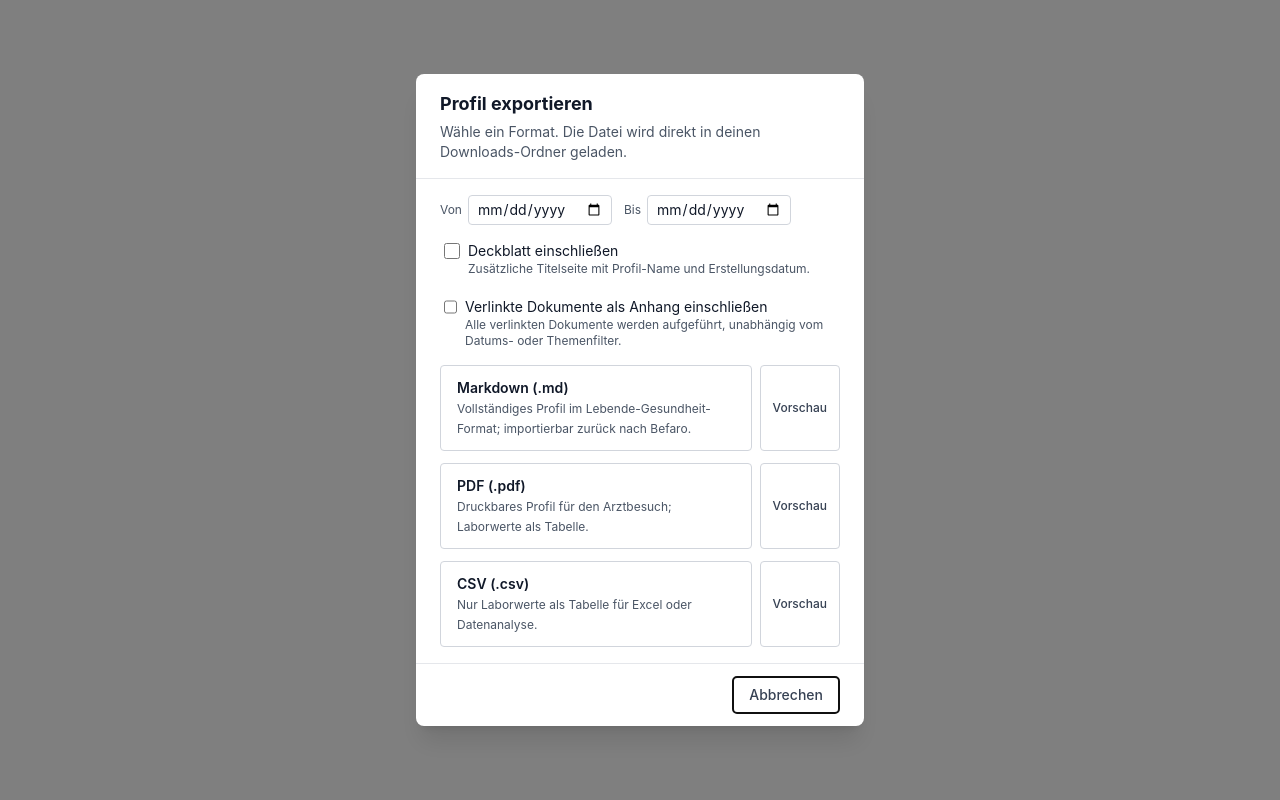
Scenario: ExportDialog › preview workflow (X-07) › clicking Markdown Preview opens the preview modal with rendered content
Click the button with test id "export-markdown-preview" at [800, 408], box [760, 365, 840, 451]
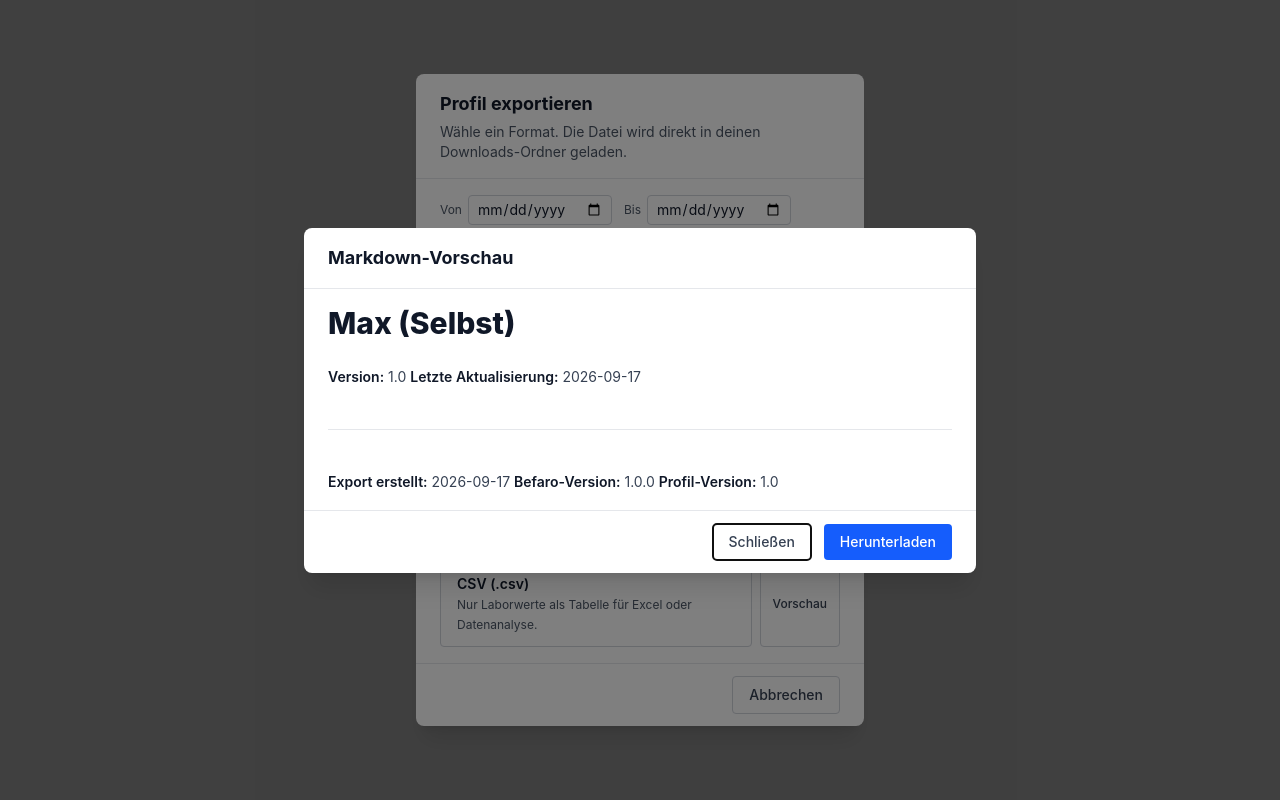
Check: the element with test id "export-preview-markdown" is shown, box [328, 304, 778, 490]
Check: the button with test id "export-preview-download" is shown, box [824, 524, 952, 560]
Check: the button with test id "export-preview-close" is shown, box [712, 522, 812, 560]
